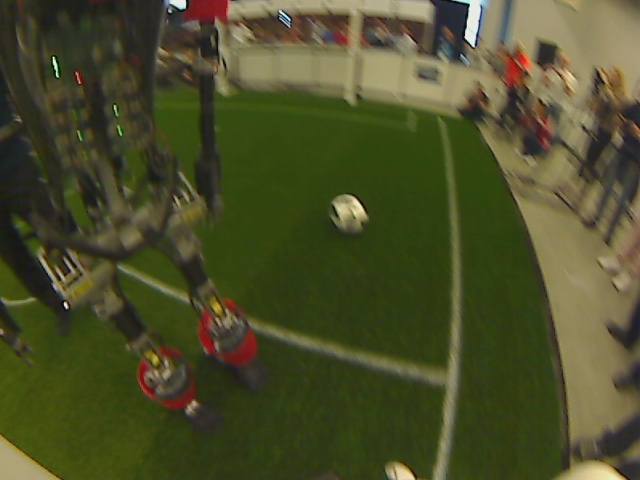ball: (328, 193, 368, 230)
